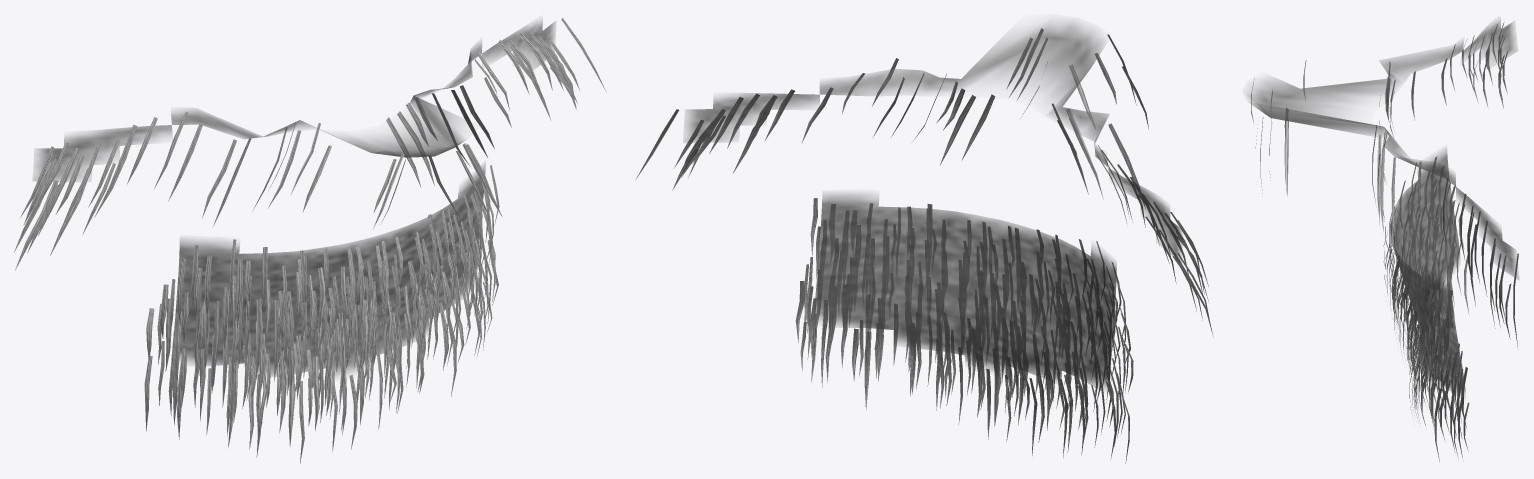
File: unified_m_beard_goatee.glb
3 renders of one model, left to right at view 1: azimuth 30°, elevation 25°; view 2: azimuth 150°, elevation 25°; view 3: azimuth 270°, elevation 25°, orthographic. The views are drawn at different scales.
Visible parts, largest first — view 1: Hair_facial_strands, Hair_beard_roots; view 2: Hair_beard_roots, Hair_facial_strands; view 3: Hair_beard_roots, Hair_facial_strands.
Boxes of the visible parts, box(x1,y1,x2,y2) form: Hair_facial_strands: box(14, 17, 606, 463); Hair_beard_roots: box(33, 19, 555, 377); Hair_beard_roots: box(683, 19, 1182, 389); Hair_facial_strands: box(635, 28, 1213, 463); Hair_beard_roots: box(1245, 18, 1518, 396); Hair_facial_strands: box(1251, 22, 1518, 462).
Bounding box in the file's own units: 0.0537 × 0.0324 × 0.0239.
2 materials, 2 textured.
